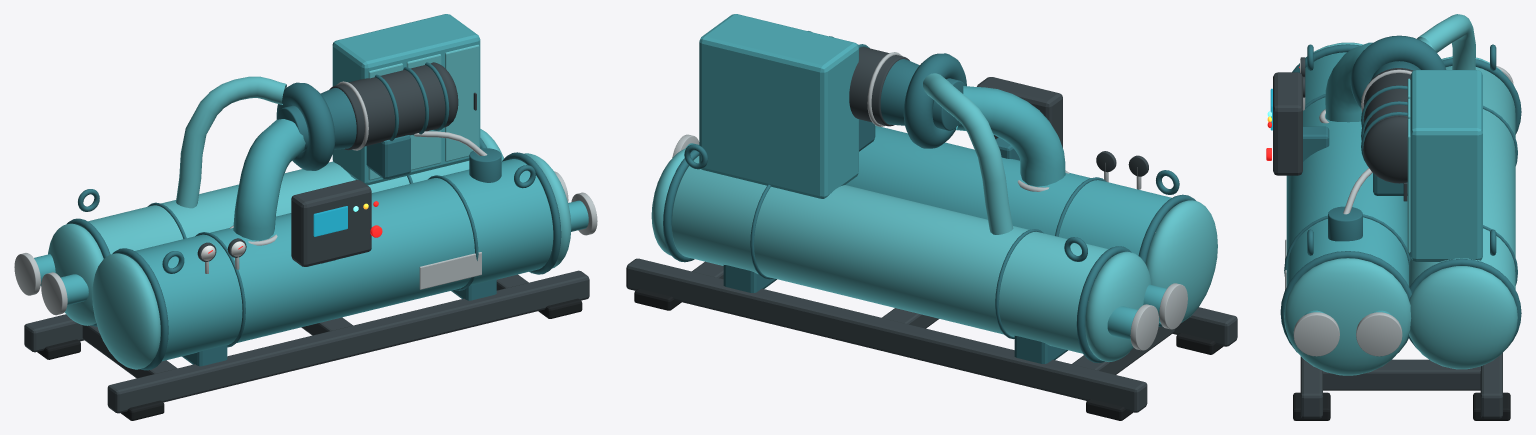
File: chiller-centrifugal-generic-v1.glb
3 renders of one model, left to right at view 1: azimuth 30°, elevation 25°; view 2: azimuth 150°, elevation 25°; view 3: azimuth 270°, elevation 25°, orthographic. The views are drawn at different scales.
Visible parts, largest first — view 1: HX_Evaporator_Shell, FRAME_BaseRail_Front, HX_Condenser_Shell, CTRL_VSD_Cabinet, HX_Evaporator_Waterbox_L, CMP_DirectDriveMotor, CTRL_OperatorPanel, CMP_Suction_Elbow, CMP_Discharge_Line, CTRL_VSD_Door_3, HX_Condenser_Waterbox_L, CMP_Volute (+21 smaller); view 2: HX_Condenser_Shell, CTRL_VSD_Cabinet, FRAME_BaseRail_Rear, HX_Evaporator_Shell, HX_Evaporator_Waterbox_L, CMP_Suction_Elbow, HX_Condenser_Waterbox_L, CMP_Discharge_Line, CMP_Volute, CMP_DirectDriveMotor, CTRL_OperatorPanel, FRAME_BaseRail_Front (+17 smaller); view 3: CTRL_VSD_Cabinet, HX_Evaporator_Shell, HX_Condenser_Waterbox_R, HX_Evaporator_Waterbox_R, HX_Condenser_Shell, FRAME_CrossMember_+1.75, CTRL_OperatorPanel, CMP_Volute, CMP_Motor_EndBell, CMP_Discharge_Line, CMP_Suction_Elbow, CONN_CHW_IN_Flange (+20 smaller).
Part boxes in pixels (x1=…): HX_Evaporator_Shell: x1=135, y1=159, x2=553, y2=361; FRAME_BaseRail_Front: x1=107, y1=270, x2=589, y2=413; HX_Condenser_Shell: x1=88, y1=161, x2=469, y2=254; CTRL_VSD_Cabinet: x1=332, y1=14, x2=480, y2=185; HX_Evaporator_Waterbox_L: x1=92, y1=253, x2=160, y2=369; CMP_DirectDriveMotor: x1=329, y1=65, x2=449, y2=150; CTRL_OperatorPanel: x1=291, y1=180, x2=371, y2=266; CMP_Suction_Elbow: x1=233, y1=119, x2=305, y2=240; CMP_Discharge_Line: x1=176, y1=76, x2=286, y2=208; CTRL_VSD_Door_3: x1=445, y1=44, x2=479, y2=161; HX_Condenser_Waterbox_L: x1=48, y1=223, x2=103, y2=325; CMP_Volute: x1=276, y1=82, x2=335, y2=170; HX_Condenser_Shell: x1=671, y1=156, x2=1108, y2=353; CTRL_VSD_Cabinet: x1=699, y1=14, x2=858, y2=198; FRAME_BaseRail_Rear: x1=626, y1=258, x2=1147, y2=412; HX_Evaporator_Shell: x1=845, y1=125, x2=1171, y2=255; HX_Evaporator_Waterbox_L: x1=1145, y1=200, x2=1217, y2=323; CMP_Suction_Elbow: x1=956, y1=86, x2=1065, y2=186; HX_Condenser_Waterbox_L: x1=1085, y1=251, x2=1151, y2=361; CMP_Discharge_Line: x1=923, y1=73, x2=1013, y2=234; CMP_Volute: x1=903, y1=53, x2=966, y2=148; CMP_DirectDriveMotor: x1=849, y1=47, x2=909, y2=126; CTRL_OperatorPanel: x1=977, y1=77, x2=1062, y2=147; FRAME_BaseRail_Front: x1=1172, y1=307, x2=1237, y2=346; CTRL_VSD_Cabinet: x1=1410, y1=70, x2=1482, y2=261; HX_Evaporator_Shell: x1=1286, y1=52, x2=1408, y2=286; HX_Condenser_Waterbox_R: x1=1409, y1=266, x2=1517, y2=369; HX_Evaporator_Waterbox_R: x1=1284, y1=258, x2=1411, y2=375; HX_Condenser_Shell: x1=1409, y1=66, x2=1515, y2=289; FRAME_CrossMember_+1.75: x1=1323, y1=359, x2=1480, y2=390; CTRL_OperatorPanel: x1=1273, y1=72, x2=1302, y2=175; CMP_Volute: x1=1350, y1=35, x2=1446, y2=108; CMP_Motor_EndBell: x1=1363, y1=116, x2=1407, y2=183; CMP_Discharge_Line: x1=1417, y1=14, x2=1475, y2=69; CMP_Suction_Elbow: x1=1325, y1=42, x2=1372, y2=122; CONN_CHW_IN_Flange: x1=1293, y1=312, x2=1339, y2=356.
Size of the model in its own units: 4.79 by 2.36 by 2.04.
